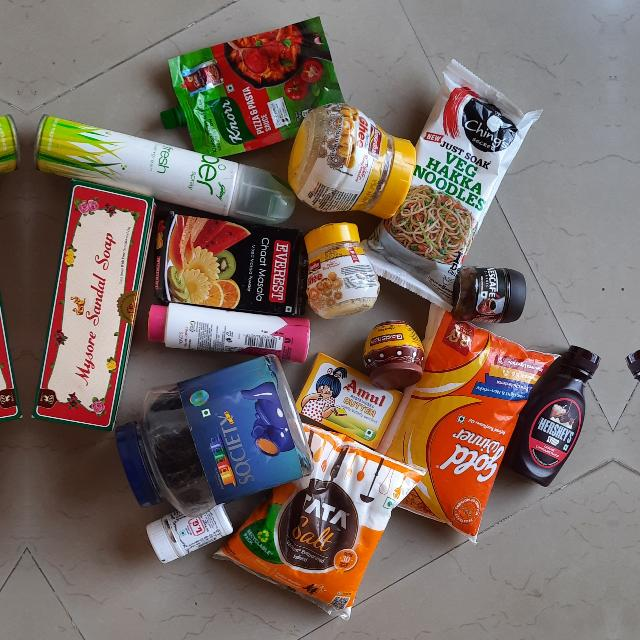Amul Butter: (298, 352, 398, 448)
Badshah Afgani Hing: (366, 320, 426, 382)
Chings Secret Veg Hakka Noodles 140 g Pouch: (376, 62, 524, 302)
Everest Chaat Masala 50 g: (154, 208, 308, 316)
Godrej Aer Lush Green Fresh Home Fragrance Spray 220 ml: (37, 108, 299, 225)
Gold Oil: (384, 300, 544, 548)
Govardhan Pure cow Ghee -1kg-: (295, 103, 409, 219)
Govardhan Pure cow Ghee -200ml-: (309, 230, 377, 314)
HERSHEY-S Chocolate Flavored Syrup 200g: (519, 336, 597, 498)
Knorr Pizza Pasta Sauce: (161, 23, 343, 155)
LG Compounded Hing Powder 50 g: (142, 505, 234, 561)
Mysore Sandal Soap 150 g -Pack of 3-: (39, 182, 152, 432)
Nescafe Classic Instant Coffee 24 g: (454, 262, 524, 326)
Pond-s Dreamflower Pink Lily Fragrant Talc 400 g: (144, 296, 314, 368)
Society Leaf Tea 250g Jar: (114, 362, 308, 514)
Tata Salt Vacuum Evaporated Iodised Salt 1 kg Pouch: (222, 422, 416, 612)
